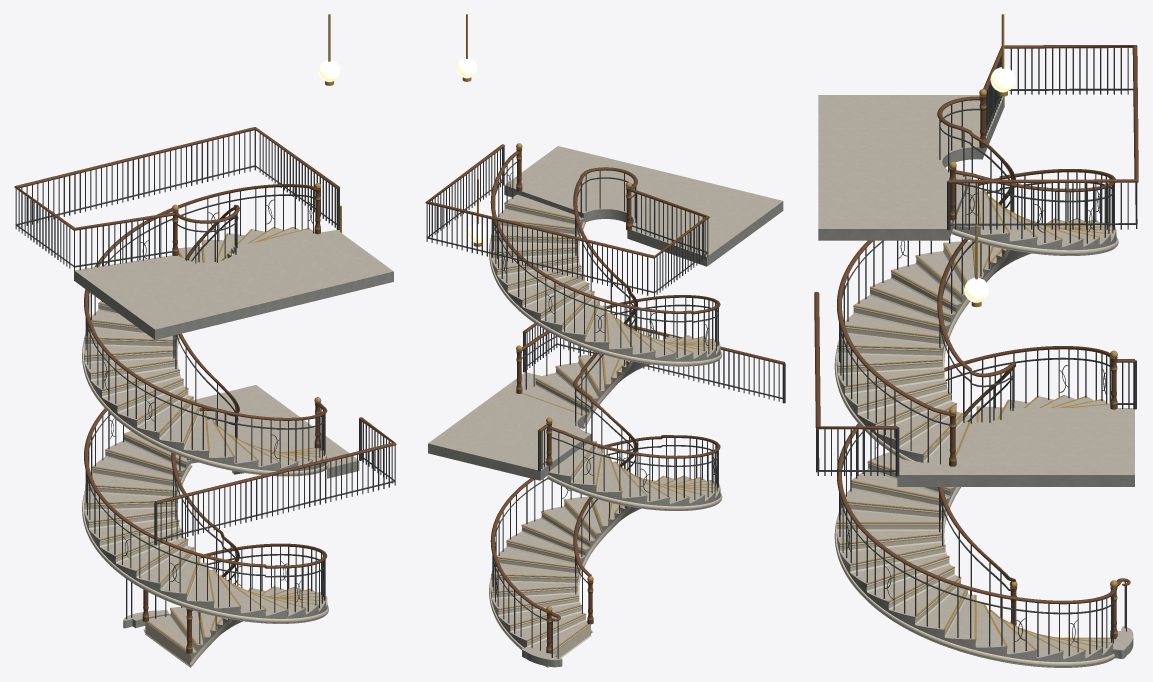
Rendered from conservatory-main-stair.glb.
The picture shows the model from 3 angles, left to right: view 1: azimuth 30°, elevation 25°; view 2: azimuth 150°, elevation 25°; view 3: azimuth 270°, elevation 25°; orthographic projection. The views are drawn at different scales.
Visible parts, largest first — view 1: main_open_well_stair; view 2: main_open_well_stair; view 3: main_open_well_stair.
Part boxes in pixels (bbox=[...]): main_open_well_stair: bbox=[14, 14, 396, 667]; main_open_well_stair: bbox=[425, 14, 785, 667]; main_open_well_stair: bbox=[814, 14, 1138, 667].
Size of the model in its own units: 6.69 by 14.96 by 6.15.
7 materials, 4 textured.
